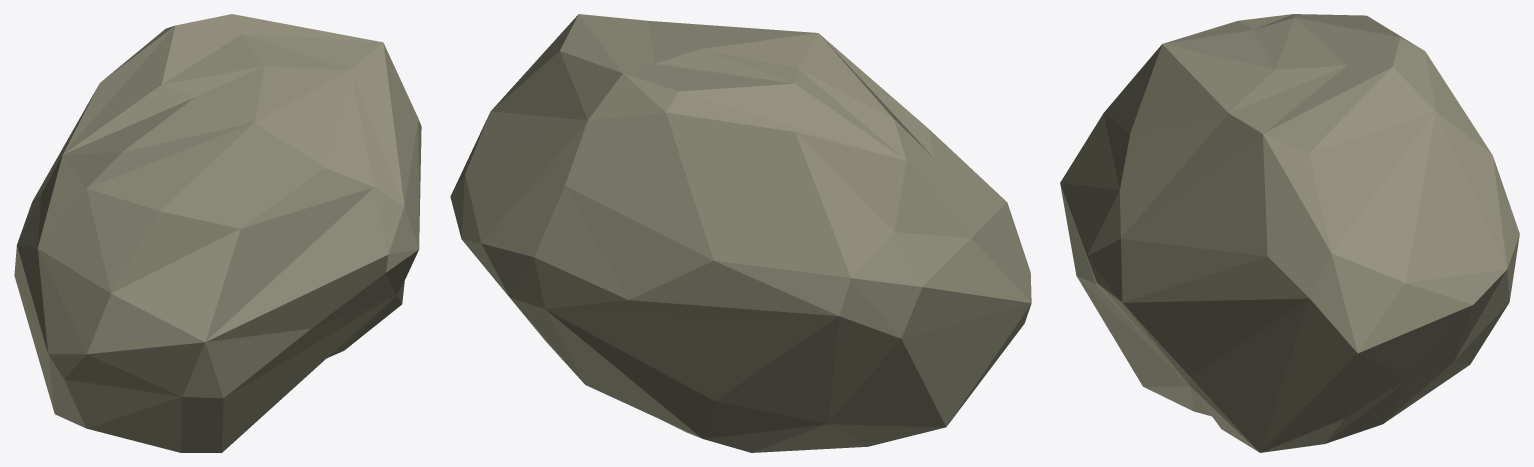
File: rocks01_low 1.fbx
3 renders of one model, left to right at view 1: azimuth 30°, elevation 25°; view 2: azimuth 150°, elevation 25°; view 3: azimuth 270°, elevation 25°, orthographic. The views are drawn at different scales.
Parts seen in each view (by area): view 1: rocks_02; view 2: rocks_02; view 3: rocks_02.
Boxes of the visible parts, left/top/right/bottom form: rocks_02: left=14, top=14, right=421, bottom=452; rocks_02: left=450, top=14, right=1031, bottom=452; rocks_02: left=1060, top=14, right=1519, bottom=452.
Size of the model in its own units: 4.61 by 3.31 by 3.54.
